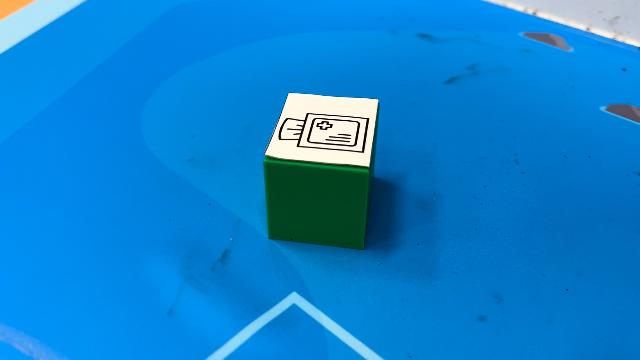napkin: (262, 91, 381, 251)
